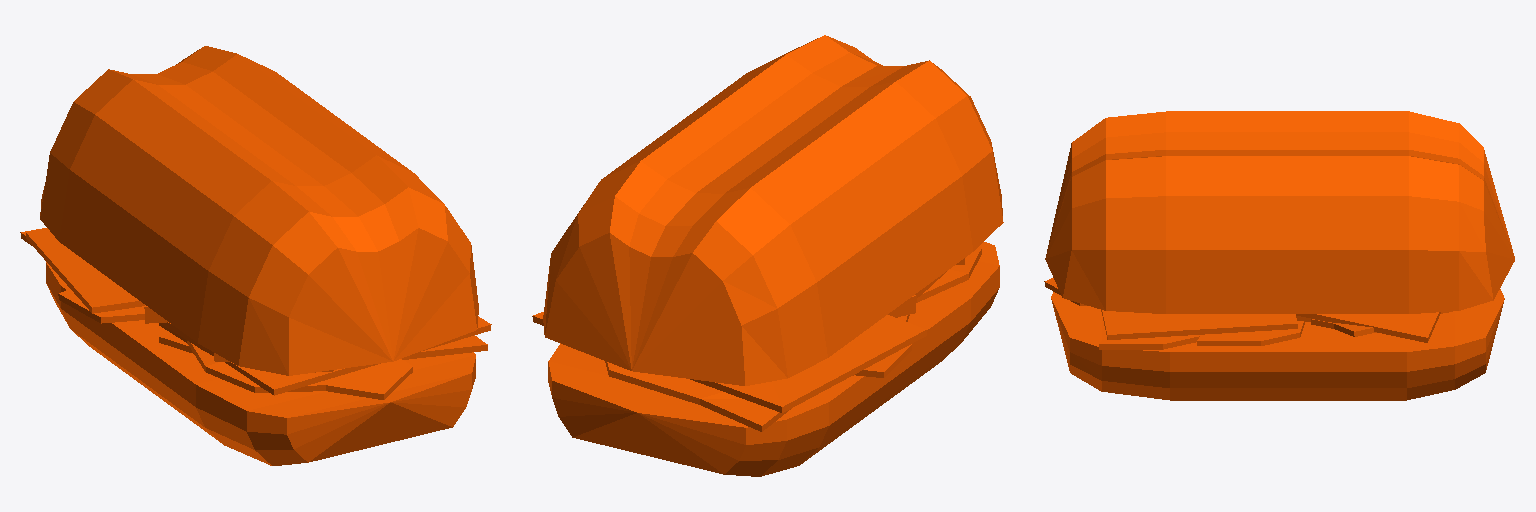
URDF robot description (FoodItem_83ad6d967cf17a985b3b9c71b7cfbff7):
<?xml version="1.0" ?>
<robot name="FoodItem_83ad6d967cf17a985b3b9c71b7cfbff7">
   <material name="obj_color">
      <color rgba="1.0 0.423529411765 0.0392156862745 1.0"/>
   </material>
   <link name="top">
      <inertial>
         <origin rpy="0.0009148717936774684 0.001868858645007299 0.001940137553365731" xyz="0.0004943929767746793 -0.0003495613156228318 0.002546019284168603"/>
         <mass value="0.8976666354896895"/>
         <inertia ixx="0.001868786412714954" ixy="9.216148739687999e-06" ixz="-1.139112490895236e-06" iyy="0.0009149816616015295" iyz="4.60986489710571e-06" izz="0.001940099917734014"/>
      </inertial>
      <visual>
         <origin rpy="0 0 0" xyz="0 0 0"/>
         <geometry>
            <mesh filename="top_watertight_tiny.stl" scale="1 1 1"/>
         </geometry>
         <material name="obj_color"/>
      </visual>
      <collision>
         <origin rpy="0 0 0" xyz="0 0 0"/>
         <geometry>
            <mesh filename="top_watertight_tiny.obj" scale="1 1 1"/>
         </geometry>
      </collision>
   </link>
   <link name="bottom">
      <inertial>
         <origin rpy="1.633333333199431e-08 1.633333333199431e-08 1.633333333362855e-08" xyz="0.3464080000000008 0.3464080000000008 0.3464080000000008"/>
         <mass value="0.0009800000000000017"/>
         <inertia ixx="1.633333333253906e-08" ixy="5.447480642029219e-19" ixz="5.447480642029219e-19" iyy="1.633333333253906e-08" iyz="5.447480642029219e-19" izz="1.633333333253906e-08"/>
      </inertial>
      <visual>
         <origin rpy="0 0 0" xyz="0 0 0"/>
         <geometry>
            <mesh filename="bottom_watertight_tiny.stl" scale="1 1 1"/>
         </geometry>
         <material name="obj_color"/>
      </visual>
   </link>
   <joint name="rotation" type="revolute">
      <origin xyz="0 0 0"/>
      <axis xyz="0 0 -1"/>
      <parent link="bottom"/>
      <child link="top"/>
      <dynamics damping="1.0" friction="1.0"/>
      <limit effort="0.1" velocity="0.1" lower="0" upper="0.001"/>
   </joint>
</robot>

--- What the picture shows (computed from the rendered views, not written in the file) ---
Views: 3 orthographic renders of the robot side by side, from view 1: azimuth 30°, elevation 25°; view 2: azimuth 150°, elevation 25°; view 3: azimuth 270°, elevation 25°.
Robot: FoodItem_83ad6d967cf17a985b3b9c71b7cfbff7 — 2 links, 1 joints (1 revolute); root link bottom; default pose: all joints at 0.
Visible links, largest first — view 1: top; view 2: top; view 3: top.
Link boxes in pixels (box(x1,y1,x2,y2)): top: box(20, 46, 491, 465); top: box(532, 35, 1003, 476); top: box(1044, 111, 1514, 400).
Bounding box of the posed robot: 0.103 × 0.159 × 0.0834 m (x, y, z).
Meshes: 2 distinct files referenced, 1 mesh visuals loaded (1 binary STL); not drawn: 1 (reference not matched to a file when rendering).
